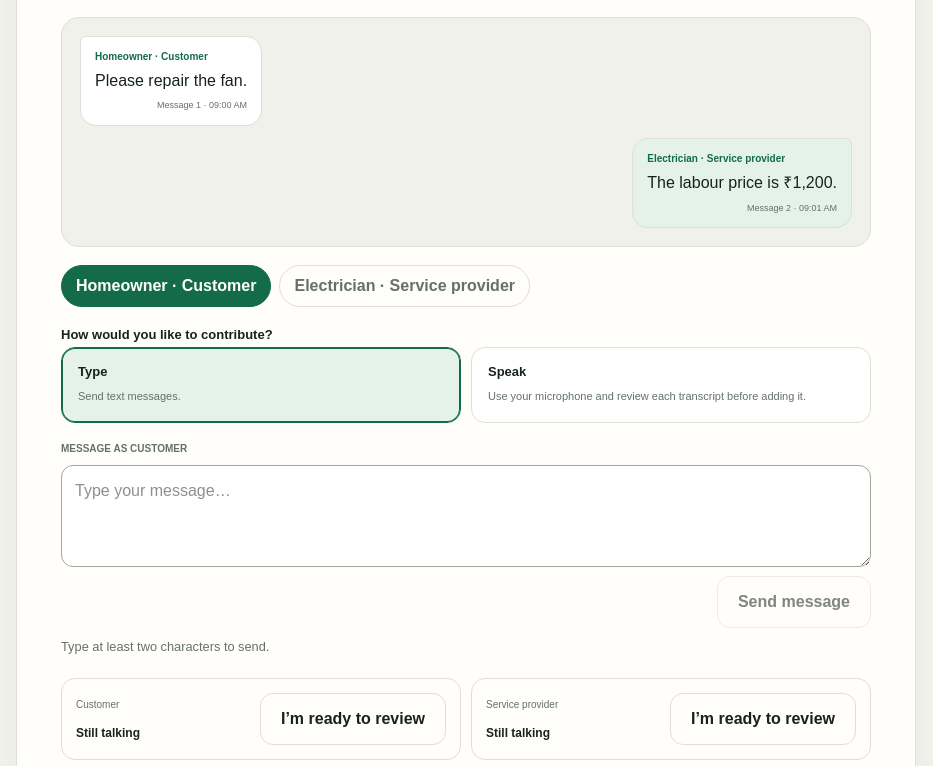
it: LiveSessionExperience conversation-first flow › switches between Type and Speak without leaving Conversation
The image size is (933, 766).
(page scrolled)
Expected: the text box labelled "Message as Customer" is shown, [61, 465, 871, 567]
Click the button named "SpeakUse your microphone".
click(507, 371)  # box [471, 347, 871, 423]
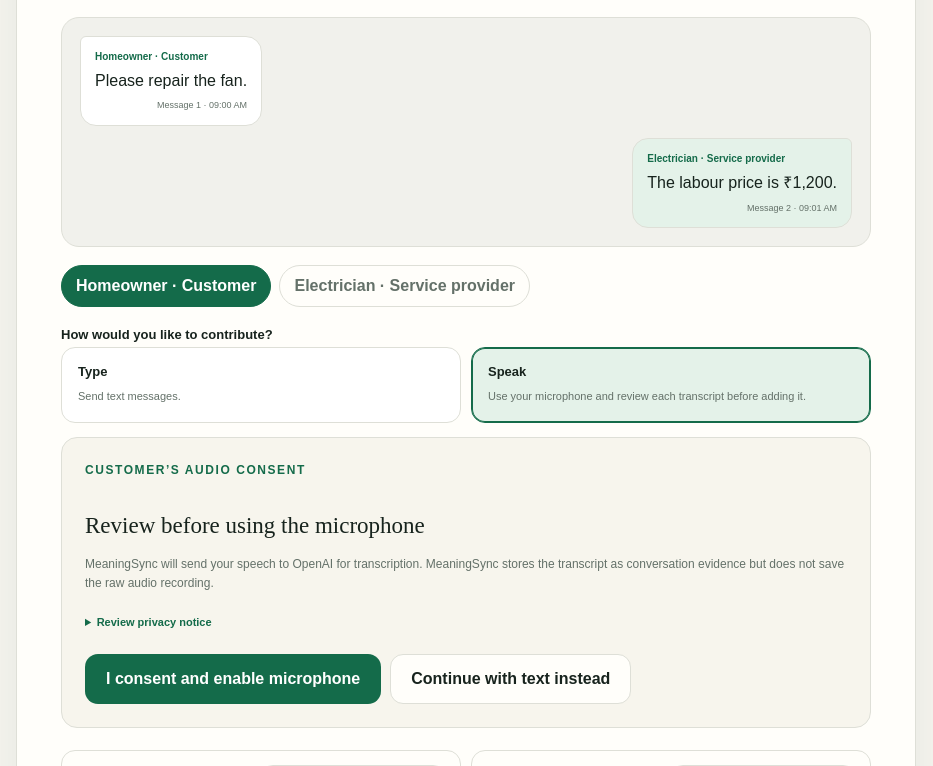
Expected: the text "send your speech to OpenAI" is shown, [85, 557, 844, 590]
Click the button "Continue with text instead".
click(511, 679)  # box [390, 654, 631, 704]
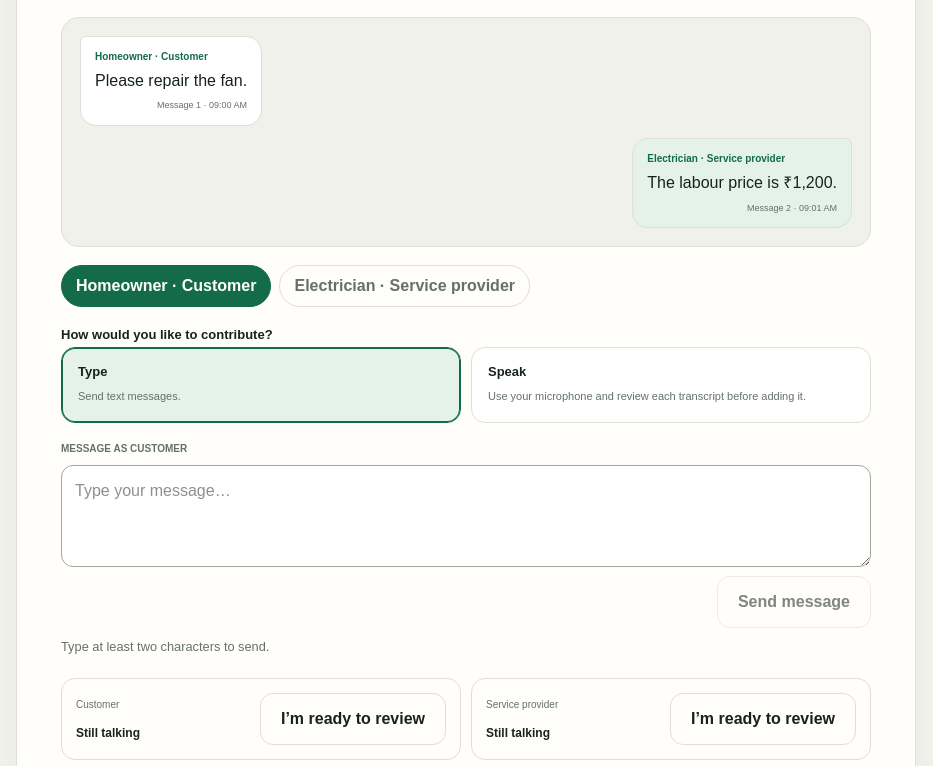
Expected: the text box labelled "Message as Customer" is shown, [61, 465, 871, 567]
